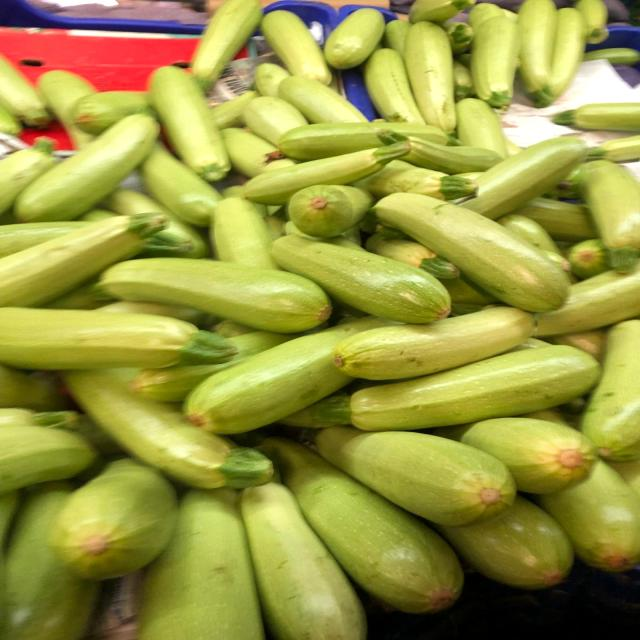zucchini: (373, 185, 578, 315), (97, 249, 332, 334), (330, 299, 542, 382), (244, 136, 423, 208), (146, 59, 242, 185), (400, 19, 469, 134)
